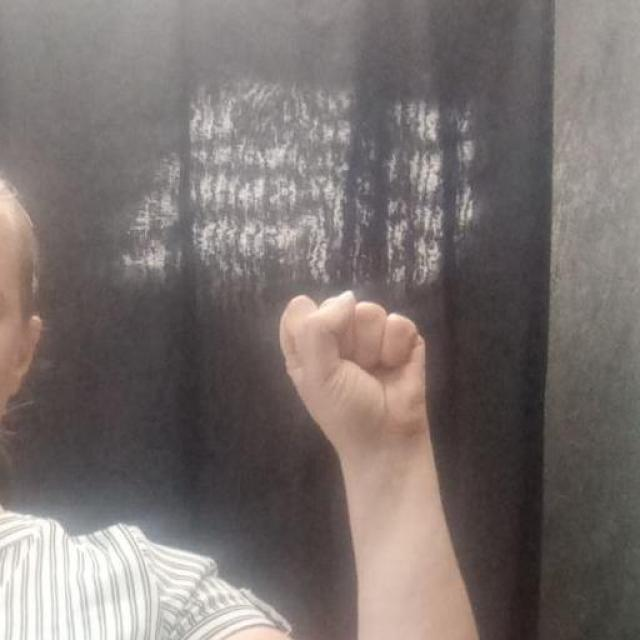hand: (276, 287, 488, 638), (276, 288, 432, 462)
